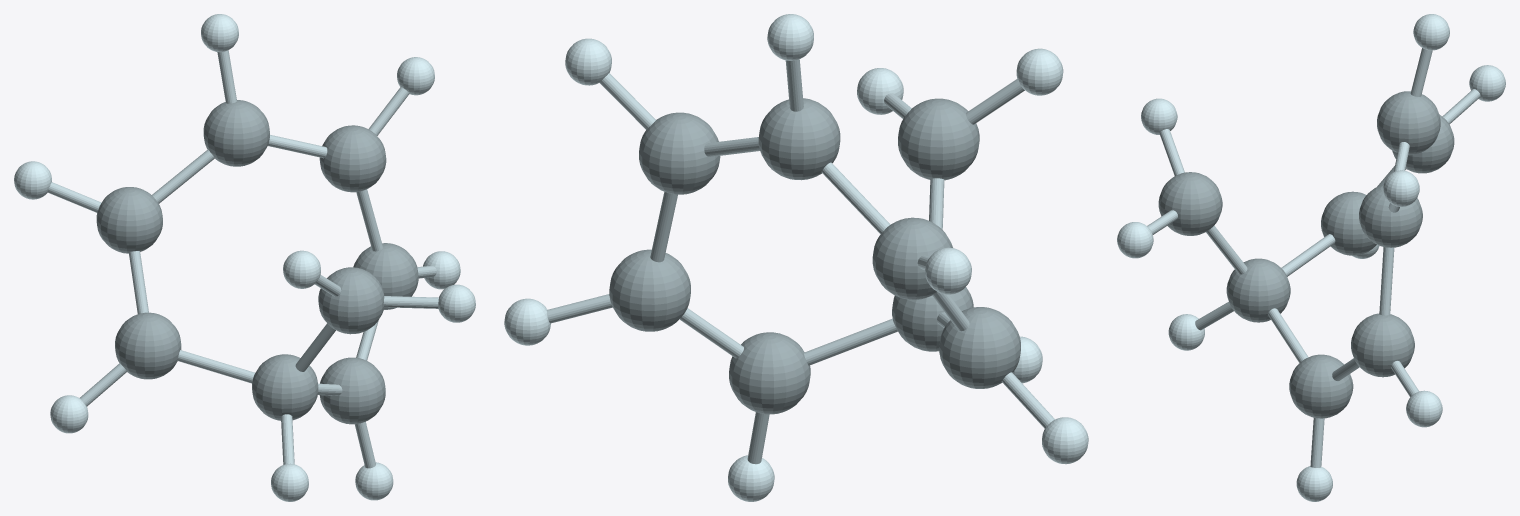
File: irc_step_237.glb
3 views of the same model, side by side, from view 1: azimuth 30°, elevation 25°; view 2: azimuth 150°, elevation 25°; view 3: azimuth 270°, elevation 25° (orthographic). The views are drawn at different scales.
Parts seen in each view (by area): view 1: Renderer Node; view 2: Renderer Node; view 3: Renderer Node.
Part boxes in pixels (<box>): Renderer Node: <box>14,14,475,501</box>; Renderer Node: <box>504,14,1088,501</box>; Renderer Node: <box>1117,14,1505,501</box>.
Size of the model in its own units: 5.28 by 5.31 by 4.24.
